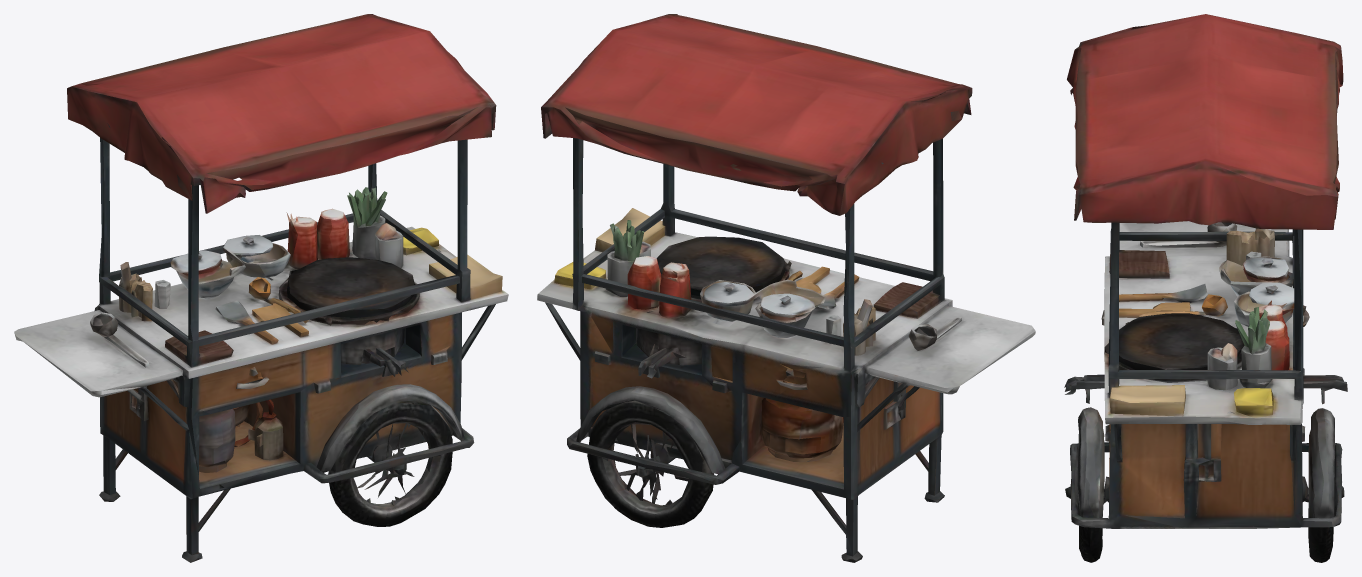
Rendered from jianbing.glb.
The picture shows the model from 3 angles, left to right: view 1: azimuth 30°, elevation 25°; view 2: azimuth 150°, elevation 25°; view 3: azimuth 270°, elevation 25°; orthographic projection. The views are drawn at different scales.
Visible parts, largest first — view 1: world; view 2: world; view 3: world.
Part boxes in pixels (box(x1,y1,x2,y2)): world: box(14, 14, 508, 562); world: box(537, 14, 1035, 562); world: box(1064, 14, 1347, 562).
Bounding box in the file's own units: 1.9 × 1.9 × 1.1.
Materials: 1 (1 with a texture image).
